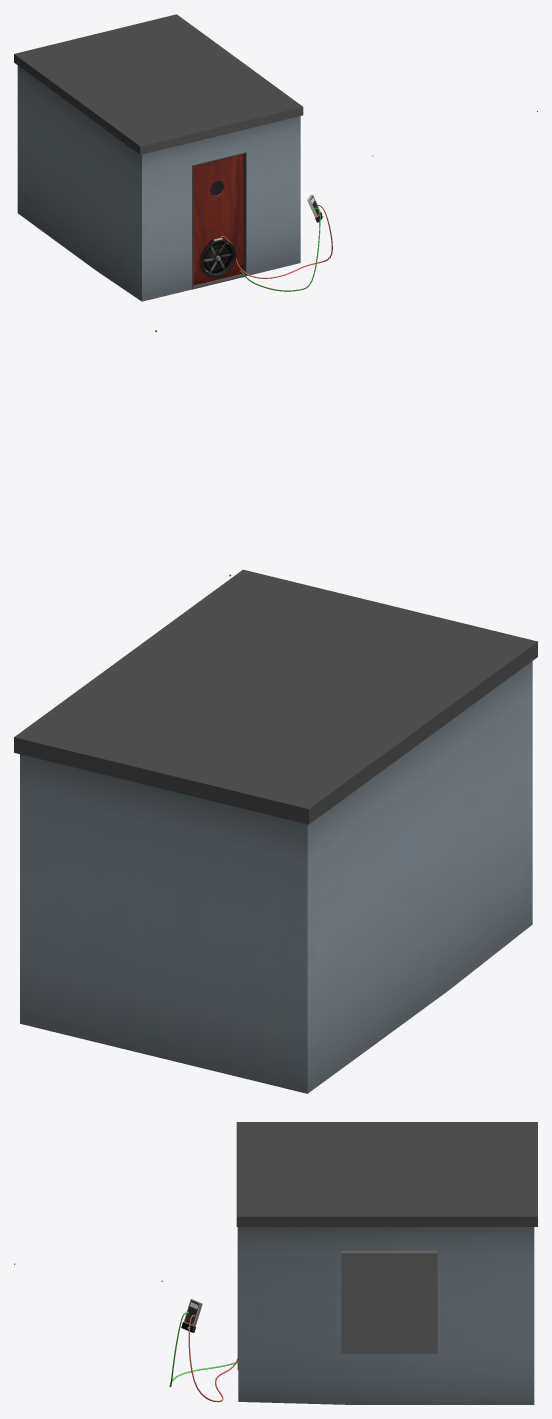
The model's file is TinyHouse_v07.dae.
The picture shows the model from 3 angles, top to bottom: view 1: azimuth 30°, elevation 25°; view 2: azimuth 150°, elevation 25°; view 3: azimuth 270°, elevation 25°; orthographic projection. The views are drawn at different scales.
Visible parts, largest first — view 1: tinyHouseWalls_Ext, roof, blowerDoor, doorJam, spinDisk, fan_housing; view 2: tinyHouseWalls_Ext, roof; view 3: tinyHouseWalls_Ext, roof, SO_window.
Part boxes in pixels (x1=…): tinyHouseWalls_Ext: x1=17, y1=65, x2=300, y2=301; roof: x1=14, y1=14, x2=303, y2=154; blowerDoor: x1=193, y1=154, x2=243, y2=285; doorJam: x1=192, y1=152, x2=246, y2=289; spinDisk: x1=203, y1=242, x2=232, y2=273; fan_housing: x1=201, y1=238, x2=236, y2=277; tinyHouseWalls_Ext: x1=20, y1=661, x2=532, y2=1093; roof: x1=14, y1=569, x2=537, y2=824; tinyHouseWalls_Ext: x1=238, y1=1227, x2=534, y2=1404; roof: x1=236, y1=1122, x2=537, y2=1226; SO_window: x1=341, y1=1250, x2=437, y2=1353.
Size of the model in its own units: 568 by 336 by 711.
12 materials, 8 textured.
